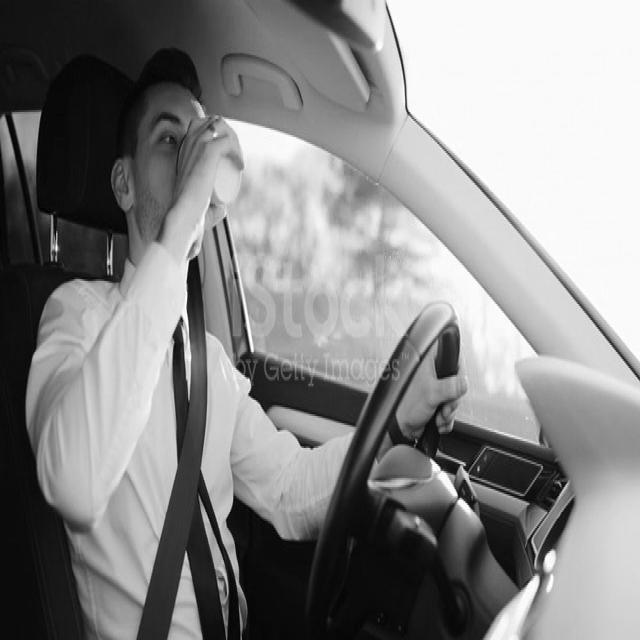Drinking: (105, 46, 256, 378)
